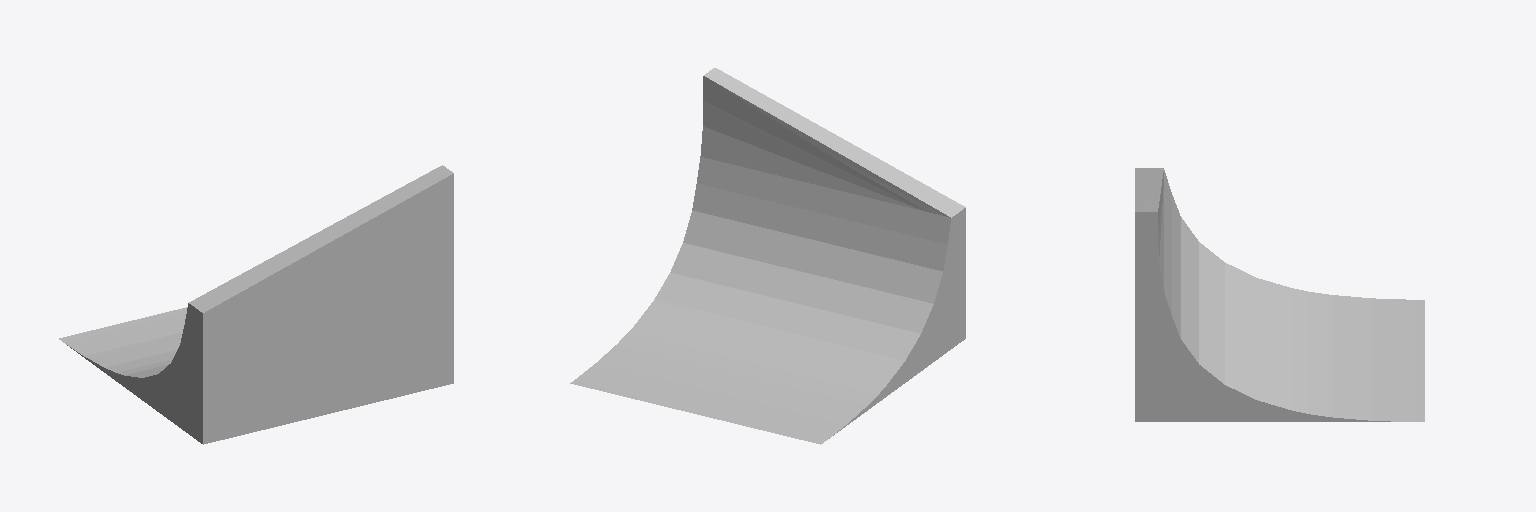
The model's file is Quater_LRG_HighVert_RL1.obj.
The picture shows the model from 3 angles: view 1: azimuth 30°, elevation 25°; view 2: azimuth 150°, elevation 25°; view 3: azimuth 270°, elevation 25°; orthographic projection.
Visible parts, largest first — view 1: Quater_LRG_HighVert_RL1; view 2: Quater_LRG_HighVert_RL1; view 3: Quater_LRG_HighVert_RL1.
Boxes of the visible parts, x1,y1,x2,y2 form: Quater_LRG_HighVert_RL1: [59, 165, 453, 444]; Quater_LRG_HighVert_RL1: [570, 68, 965, 444]; Quater_LRG_HighVert_RL1: [1135, 168, 1424, 421].
Size of the model in its own units: 20 by 16 by 20.